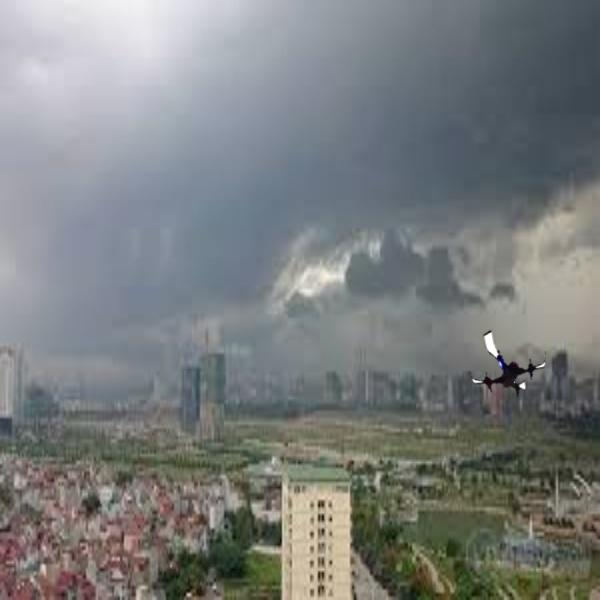drone: (468, 321, 552, 405)
